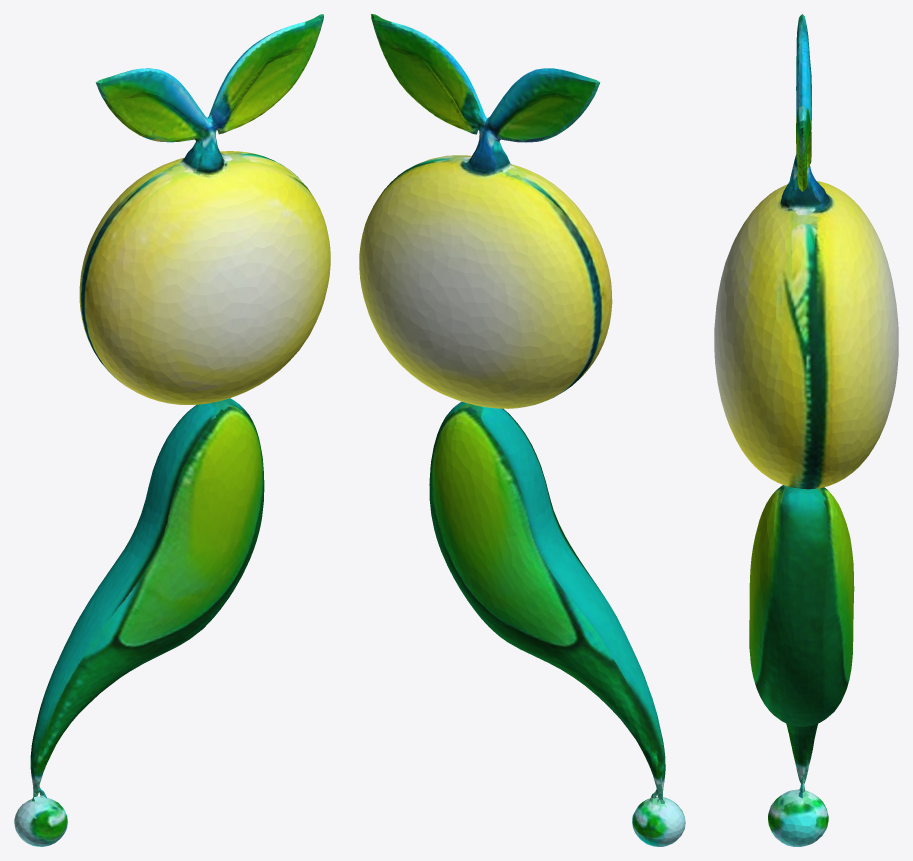
File: magic_bean.glb
3 renders of one model, left to right at view 1: azimuth 30°, elevation 25°; view 2: azimuth 150°, elevation 25°; view 3: azimuth 270°, elevation 25°, orthographic. The views are drawn at different scales.
Visible parts, largest first — view 1: tmpup36lg3r.ply; view 2: tmpup36lg3r.ply; view 3: tmpup36lg3r.ply.
Part boxes in pixels (x1=…): tmpup36lg3r.ply: x1=14, y1=14, x2=330, y2=846; tmpup36lg3r.ply: x1=359, y1=14, x2=685, y2=846; tmpup36lg3r.ply: x1=714, y1=14, x2=898, y2=846.
Size of the model in its own units: 0.8503 by 1.99 by 0.3796.
Materials: 1 (1 with a texture image).
